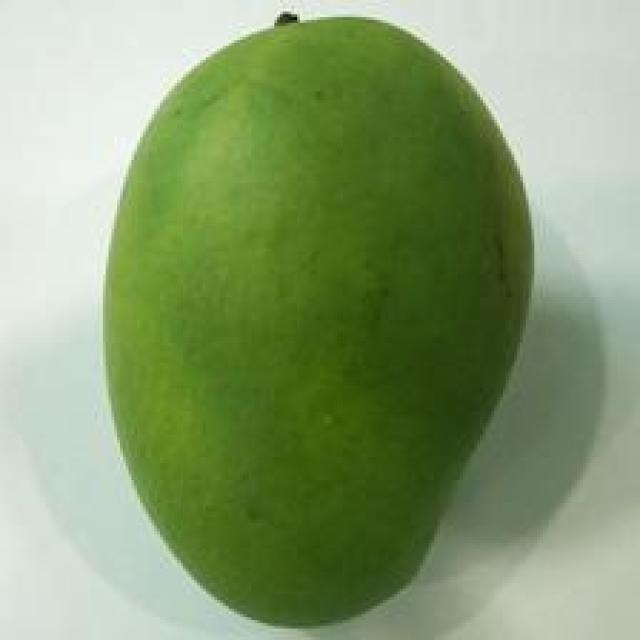Good_Mango: (100, 14, 537, 631)
